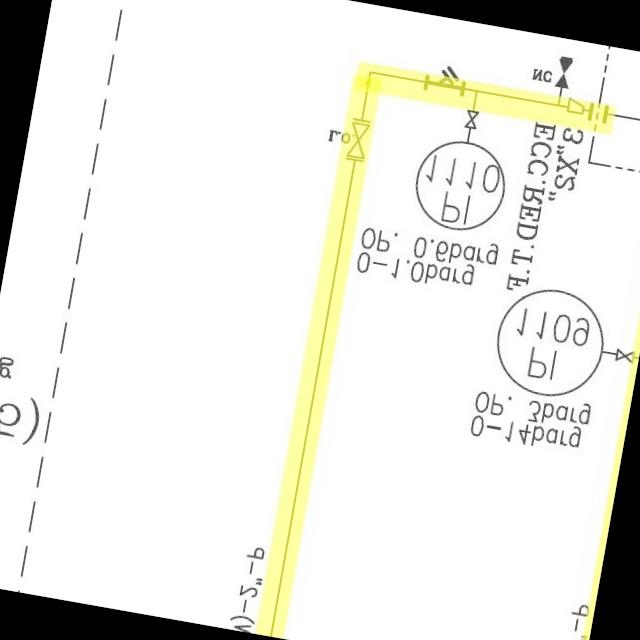GV: (342, 111, 378, 166), (462, 104, 483, 134)
SP: (564, 94, 586, 120)
